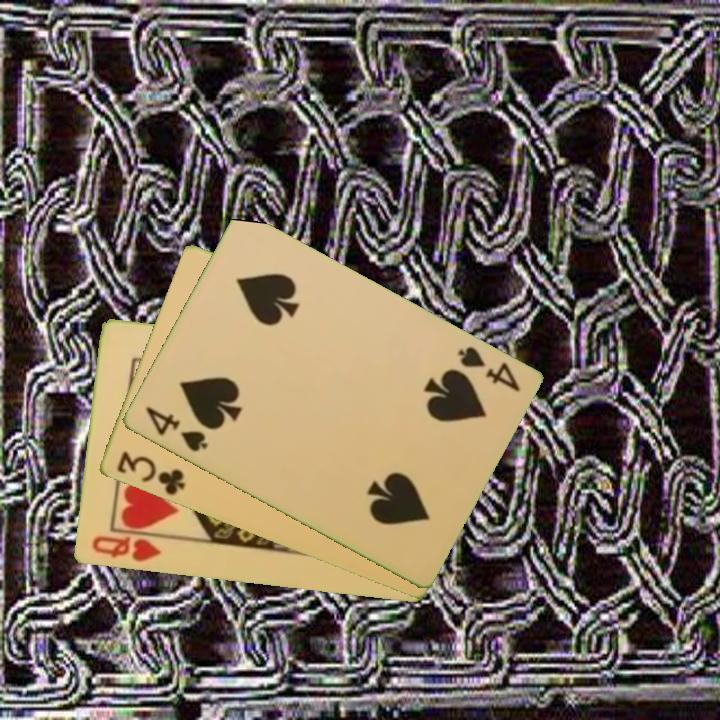3c: (112, 448, 188, 499)
4s: (453, 342, 523, 395), (141, 403, 210, 455)
Qh: (88, 532, 164, 565)
